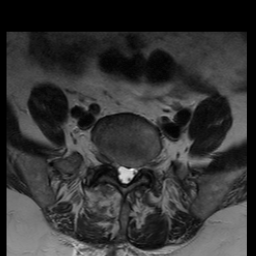CCS_stenosis: (122, 158, 129, 190)
LFS_severe_stenosis: (138, 159, 146, 177)
LLS_normal: (129, 162, 137, 184)
RFS_stenosis: (107, 153, 116, 172)
RLS_stenosis: (115, 161, 123, 184)
